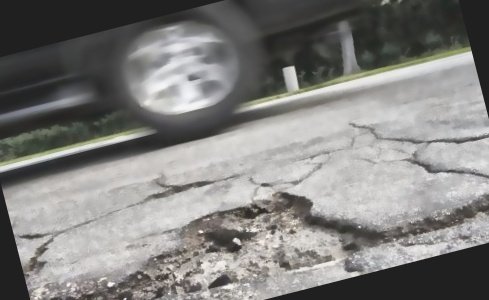pothole: (94, 163, 392, 300)
